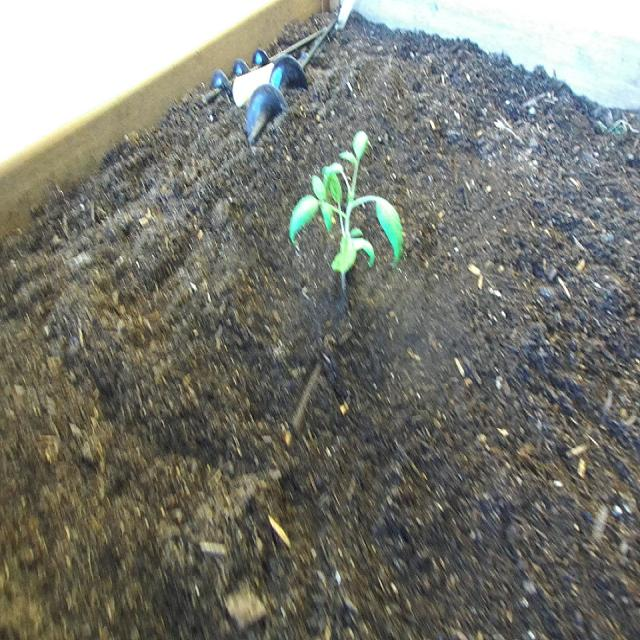Healthy: (280, 127, 406, 302)
